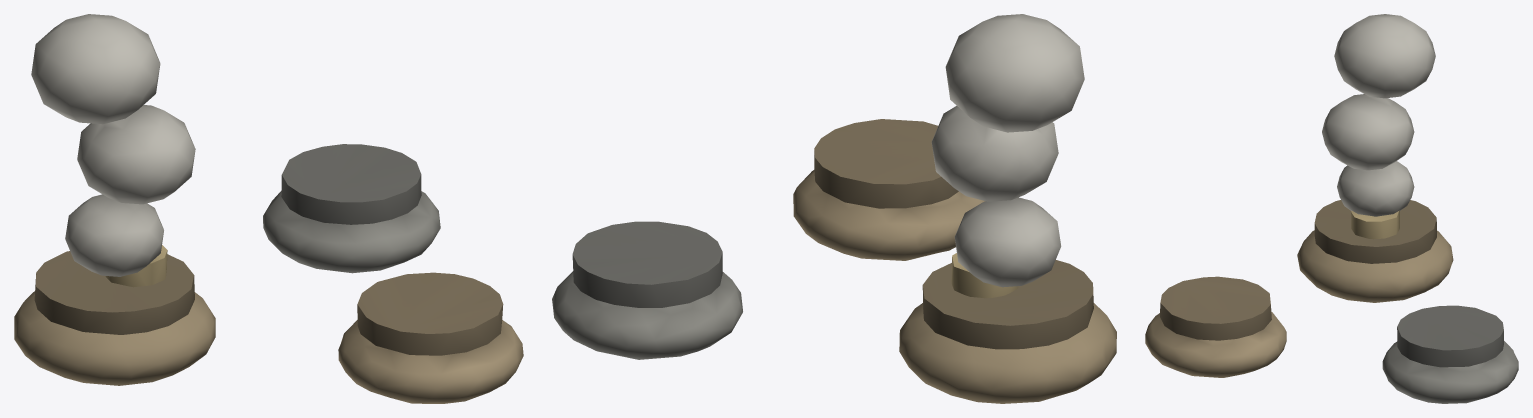
Rendered from dish_stones_a_lod1.glb.
3 views of the same model, side by side, from view 1: azimuth 30°, elevation 25°; view 2: azimuth 150°, elevation 25°; view 3: azimuth 270°, elevation 25° (orthographic). The views are drawn at different scales.
Visible parts, largest first — view 1: Surface.001; view 2: Surface.001; view 3: Surface.001.
Boxes of the visible parts, x1,y1,x2,y2 form: Surface.001: (14,14,523,403); Surface.001: (552,14,1116,403); Surface.001: (1145,14,1518,403).
Bounding box in the file's own units: 2.13 × 1.56 × 1.99.
